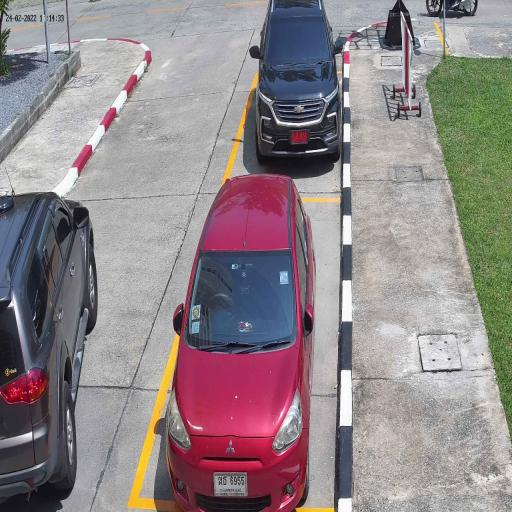car: (162, 170, 318, 512), (0, 188, 100, 500), (254, 0, 342, 164)
